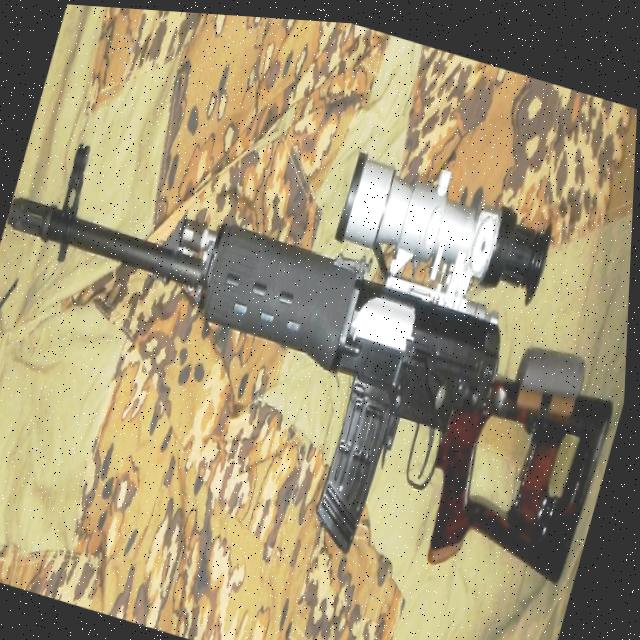firearm: (0, 52, 638, 611)
